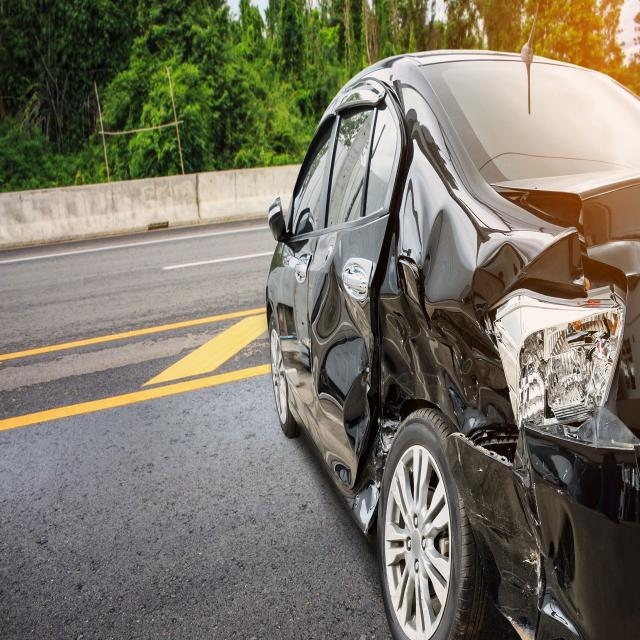accident: (266, 53, 640, 638)
